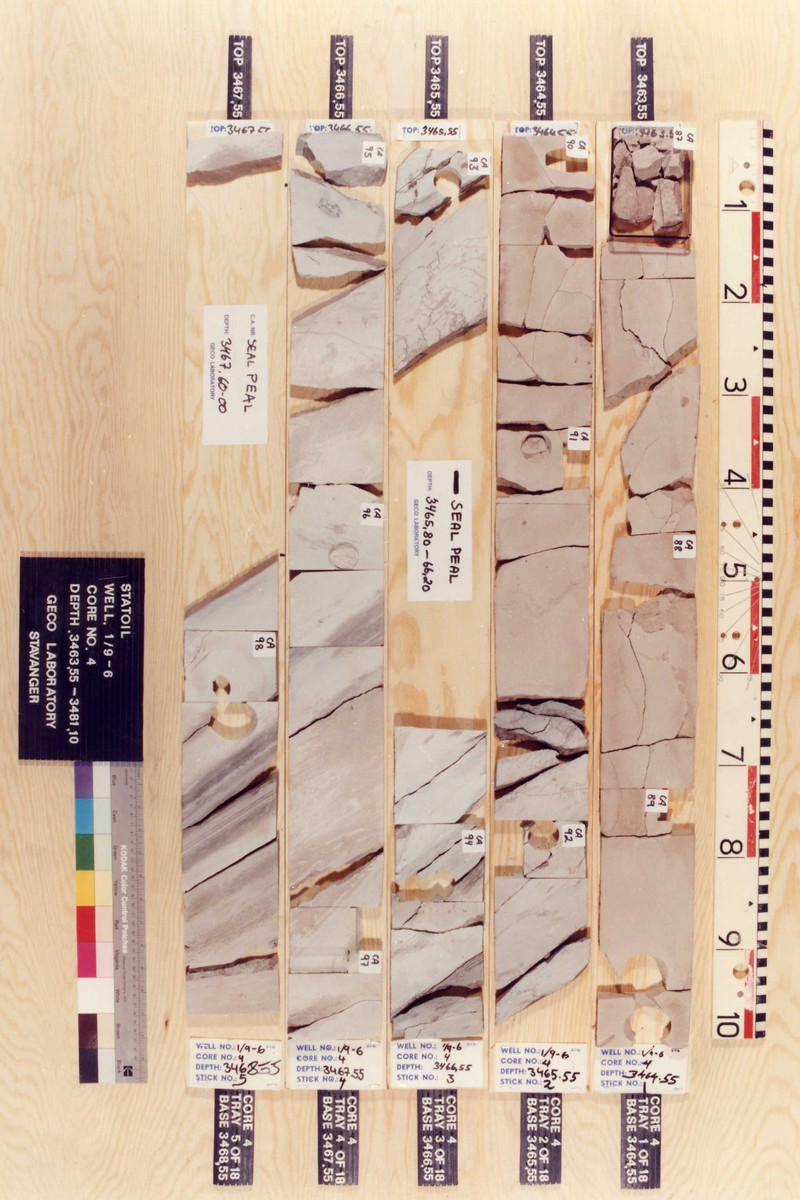core: (599, 124, 699, 1045), (287, 132, 384, 1040), (499, 136, 594, 1022), (183, 550, 281, 1015), (391, 725, 488, 1040), (392, 147, 487, 383), (184, 134, 283, 184)
